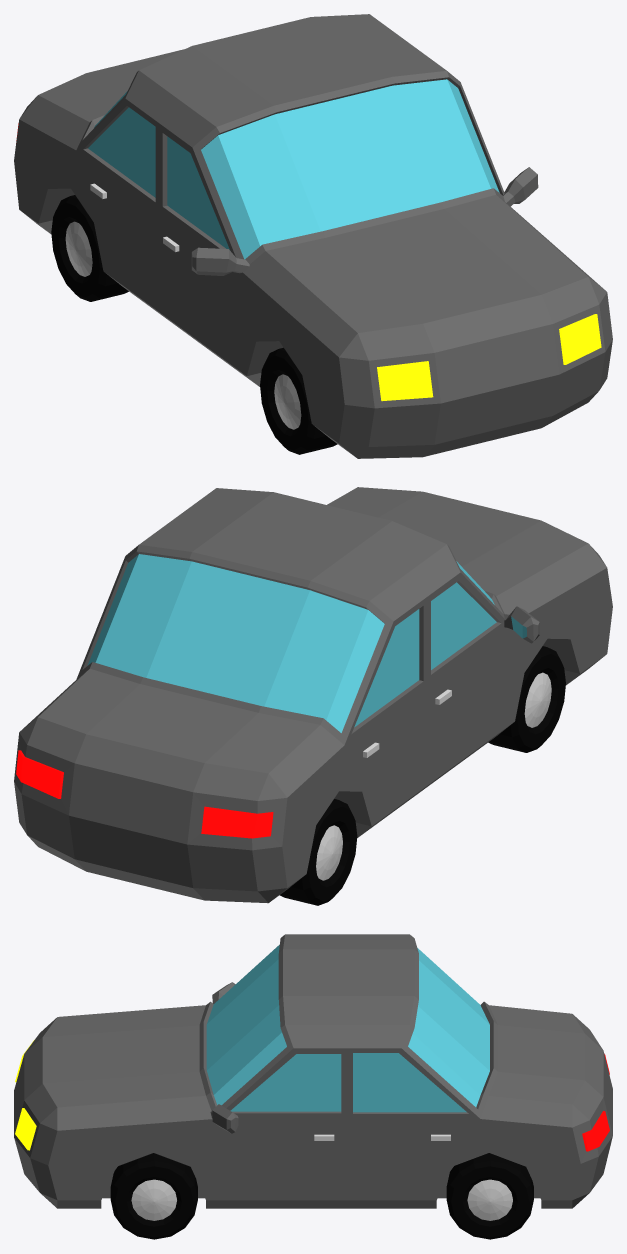
File: car.fbx
The picture shows the model from 3 angles, top to bottom: view 1: azimuth 30°, elevation 25°; view 2: azimuth 150°, elevation 25°; view 3: azimuth 270°, elevation 25°; orthographic projection. The views are drawn at different scales.
Parts seen in each view (by area): view 1: sedan, sedan_br, sedan_fr; view 2: sedan, sedan_fr, sedan_br; view 3: sedan, sedan_fl, sedan_bl.
Boxes of the visible parts, x1,y1,x2,y2 form: sedan: (14,14,612,458); sedan_br: (51,195,128,301); sedan_fr: (260,347,337,454); sedan: (14,487,612,903); sedan_fr: (488,646,565,752); sedan_br: (280,799,357,905); sedan: (14,934,612,1208); sedan_fl: (110,1153,197,1239); sedan_bl: (446,1153,533,1239).
Bounding box in the file's own units: 257 × 193 × 480.
